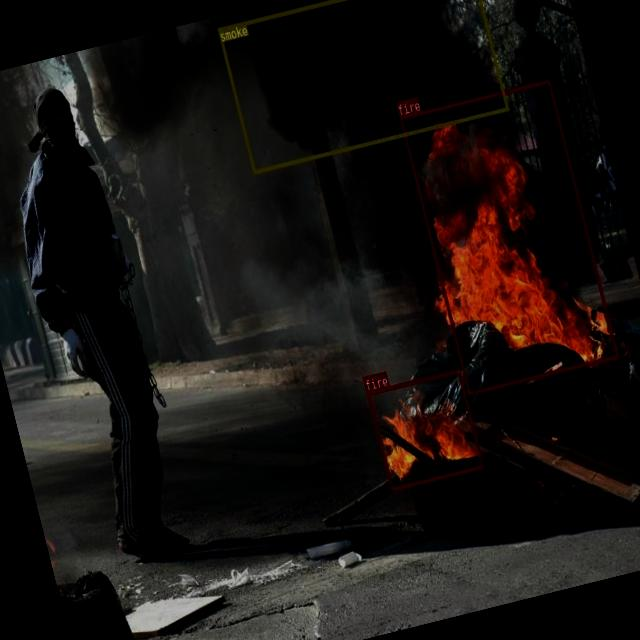fire: (398, 78, 618, 395), (366, 367, 484, 490)
smoke: (217, 0, 508, 173)
